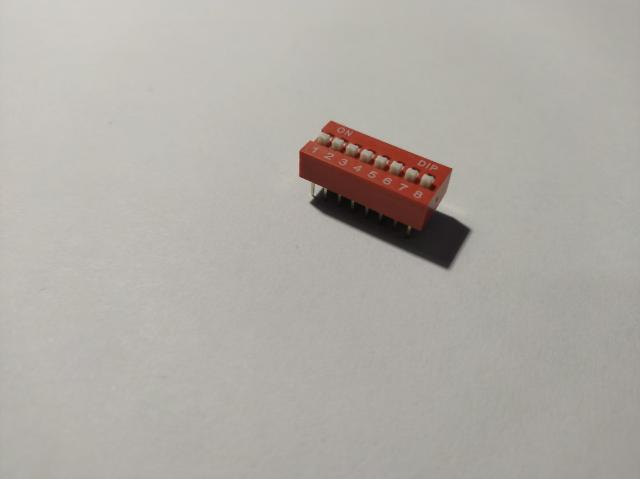dip_switch: (299, 120, 453, 238)
